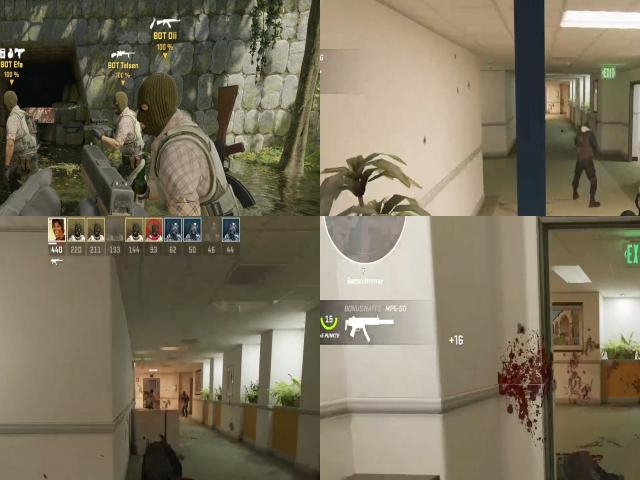Bomb: (21, 112, 38, 138)
CT: (572, 120, 597, 178)
CT-Head: (579, 119, 592, 141)
Dead: (535, 426, 630, 480), (139, 440, 184, 480)
T: (137, 60, 246, 216), (0, 85, 42, 204), (105, 81, 144, 207)
T-Head: (135, 68, 186, 138), (110, 88, 131, 118), (0, 88, 20, 114)
